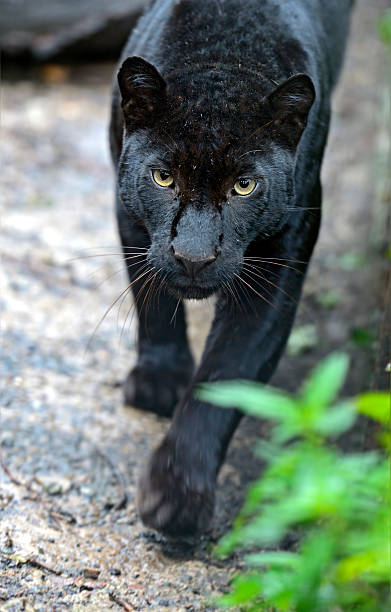panther: (77, 54, 329, 323)
